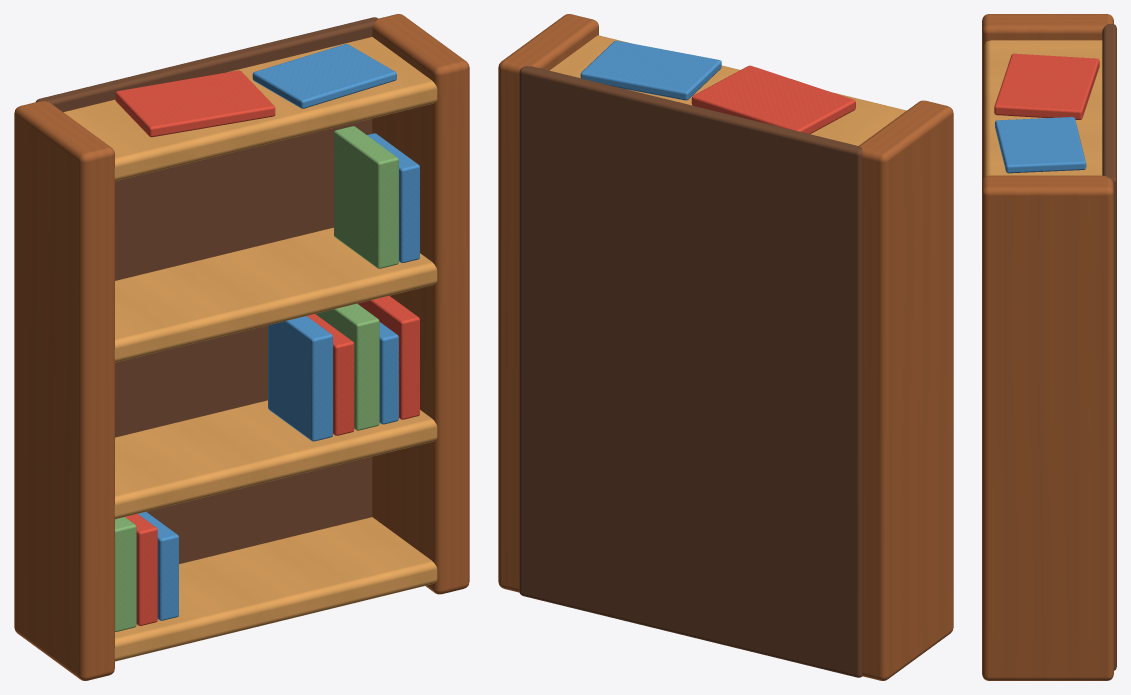
Rendered from SHELF.glb.
3 renders of one model, left to right at view 1: azimuth 30°, elevation 25°; view 2: azimuth 150°, elevation 25°; view 3: azimuth 270°, elevation 25°, orthographic. The views are drawn at different scales.
Parts seen in each view (by area): view 1: SHELF; view 2: SHELF; view 3: SHELF.
Part boxes in pixels (x1,y1,x2,y2): SHELF: (14, 14, 469, 680); SHELF: (498, 14, 953, 680); SHELF: (982, 14, 1116, 680).
Size of the model in its own units: 0.99 by 1.28 by 0.317.
Materials: 6 (5 with a texture image).
